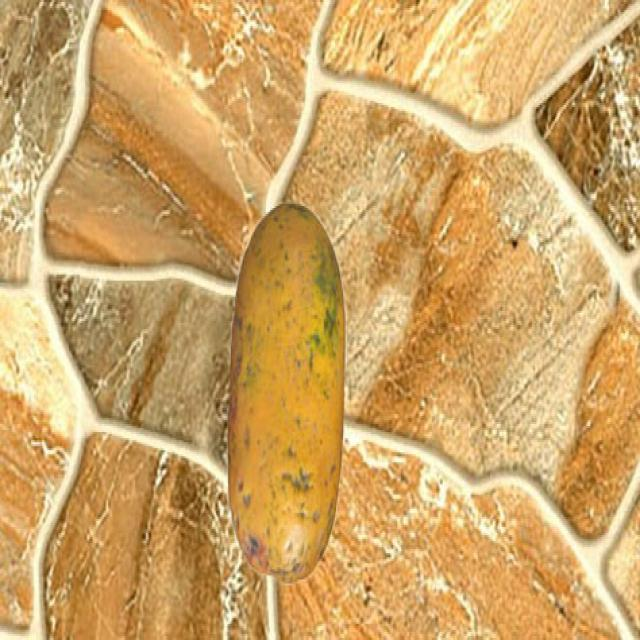Pepaya rippen: (230, 198, 351, 591)
